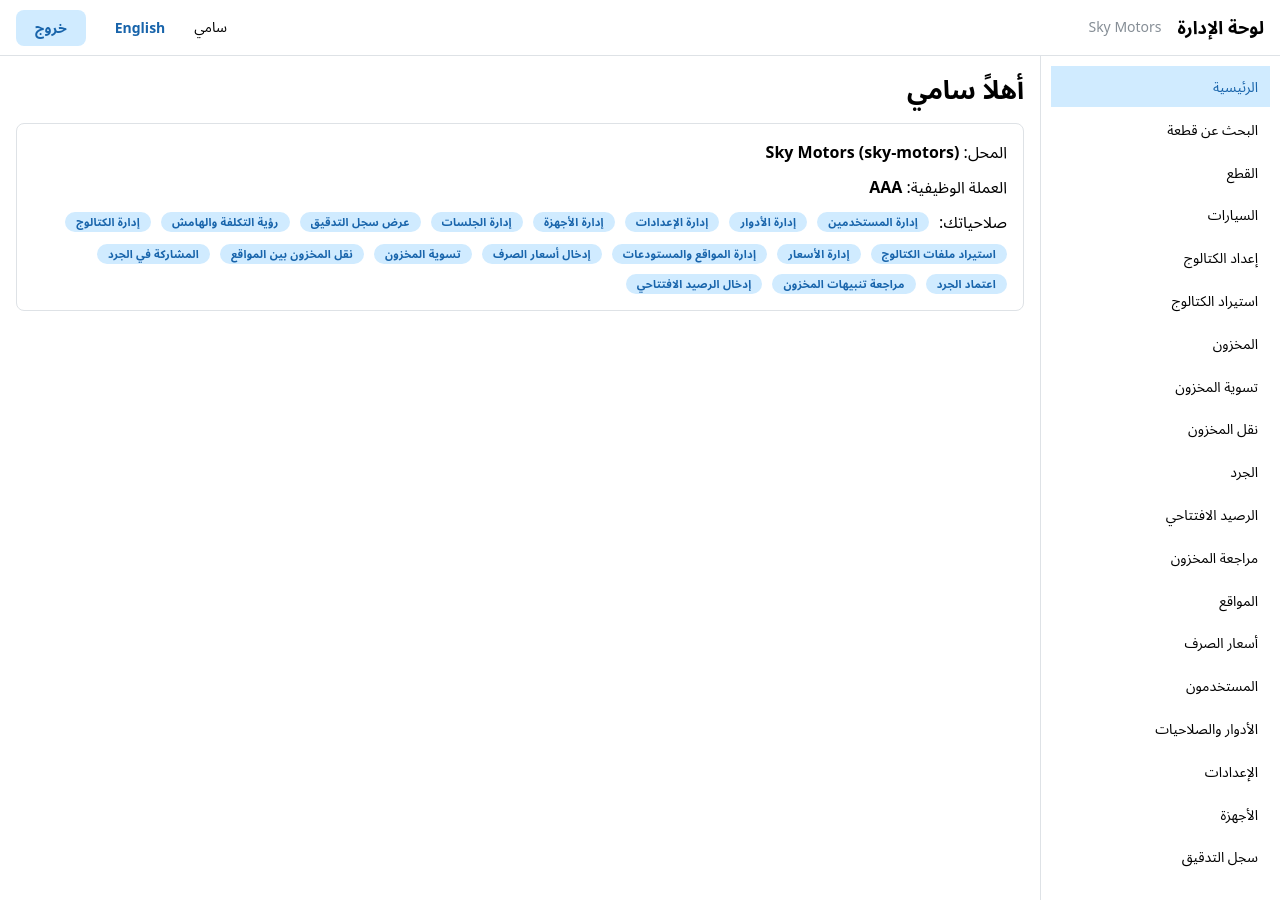
Test: signing out › treats a session that already ended as signed out
expect the heading "أهلاً سامي" is shown: met, box [907, 71, 1024, 107]
Click the button "خروج": (51, 28) [16, 10, 86, 46]
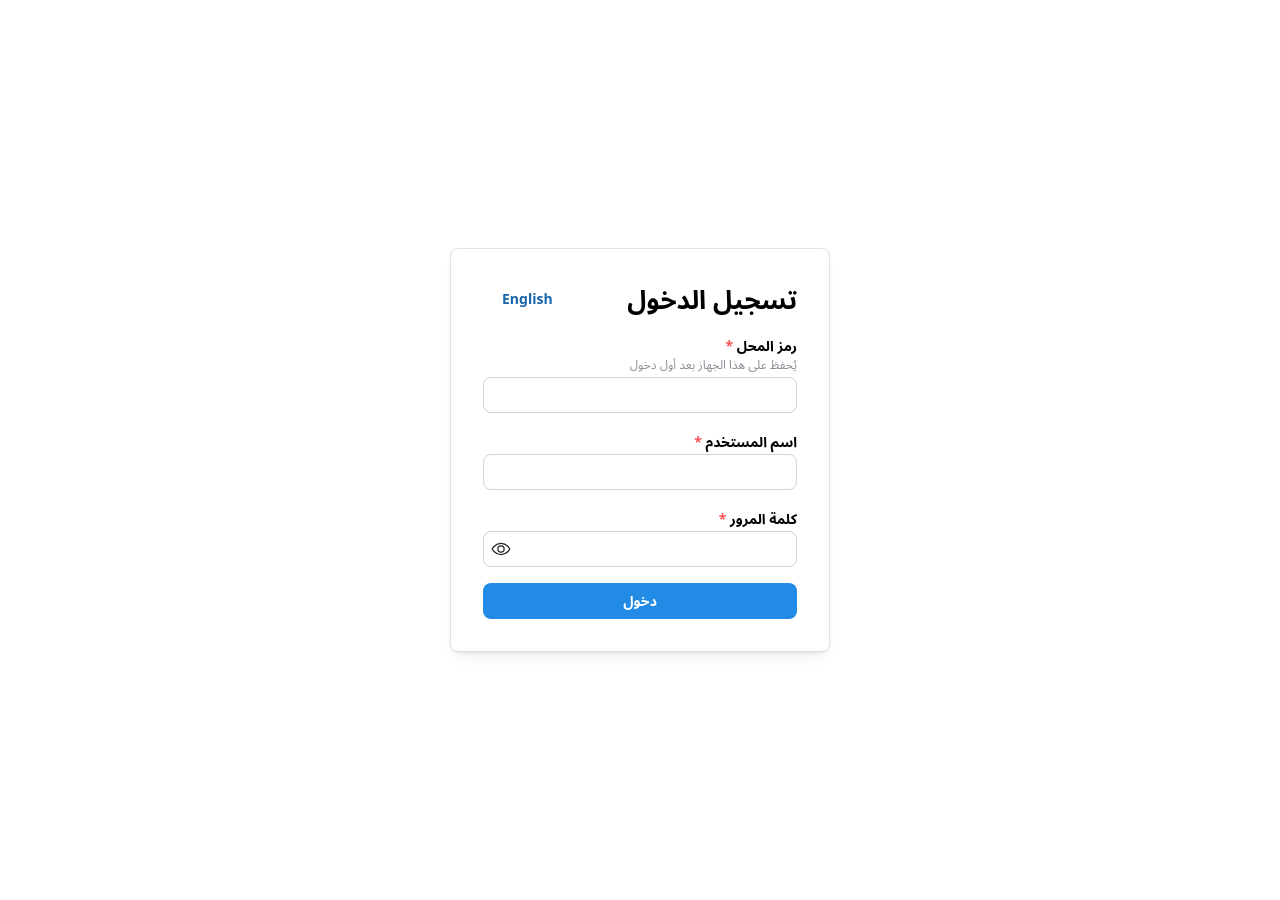
expect the heading "تسجيل الدخول" is shown: met, box [627, 282, 797, 317]
